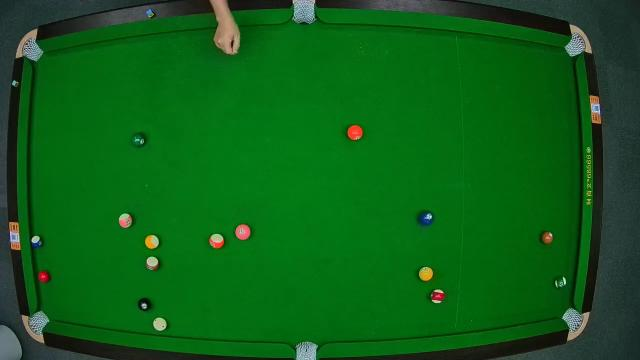bag1: (22, 39, 42, 61)
bag2: (292, 1, 316, 27)
bag3: (568, 35, 588, 57)
bag4: (28, 310, 48, 332)
bag5: (296, 340, 318, 360)
bag6: (562, 309, 584, 331)
ball0: (152, 316, 168, 332)
ball1: (418, 266, 434, 282)
ball10: (31, 234, 44, 250)
ball11: (430, 288, 446, 304)
ball12: (118, 213, 134, 229)
ball13: (209, 233, 225, 248)
ball14: (554, 275, 566, 289)
ball15: (146, 255, 160, 270)
ball2: (418, 210, 434, 226)
ball3: (38, 270, 51, 284)
ball4: (235, 224, 252, 241)
ball5: (346, 124, 364, 142)
ball6: (132, 132, 146, 148)
ball7: (540, 230, 554, 246)
ball8: (136, 296, 152, 312)
ball9: (145, 234, 159, 250)
